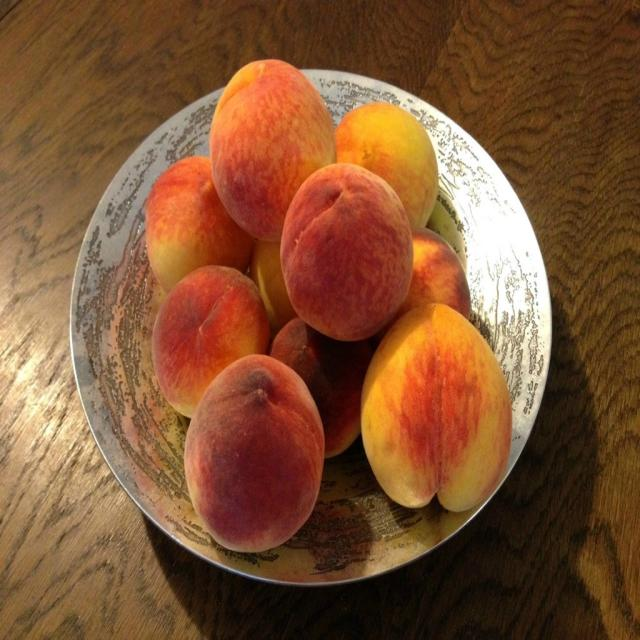Peach: (144, 62, 510, 554), (185, 354, 324, 552)
